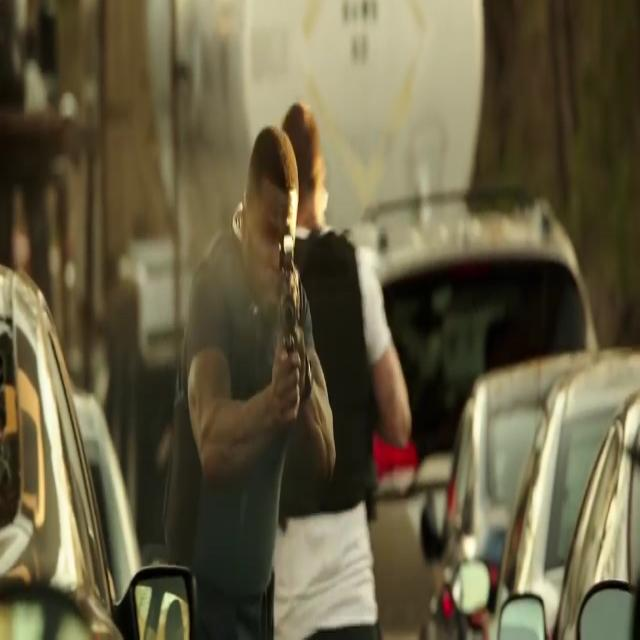Weapon: (268, 250, 314, 422)
